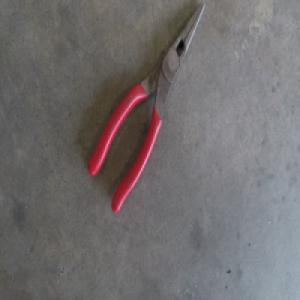Pliers: (87, 1, 205, 212)
